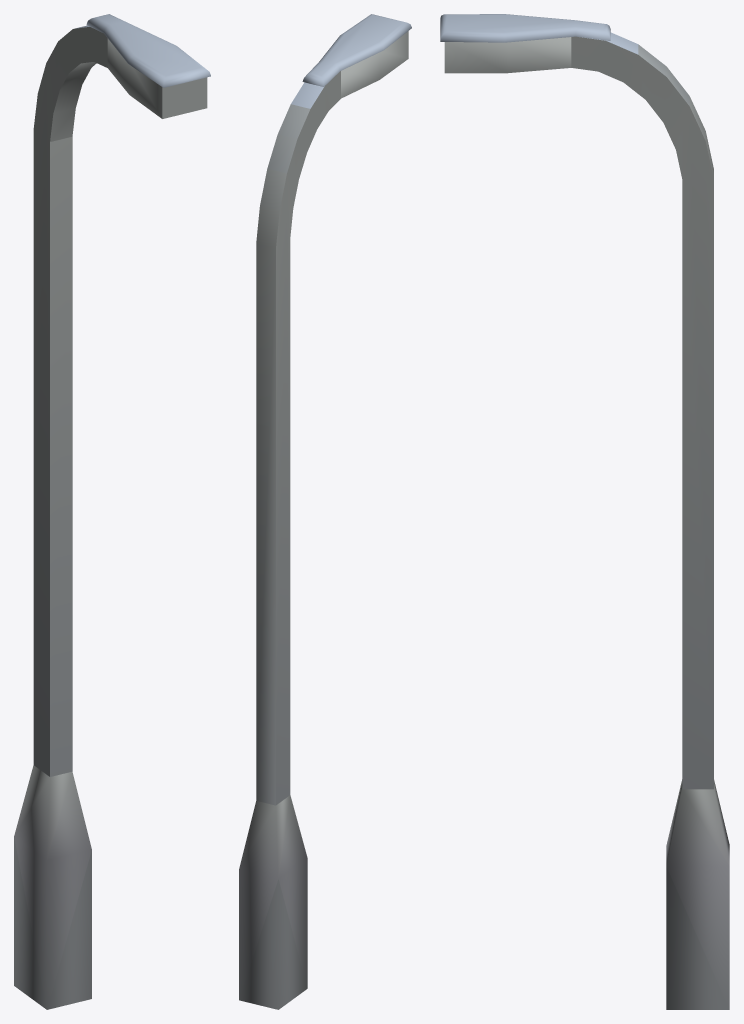
File: lamp_highway.glb
3 renders of one model, left to right at view 1: azimuth 30°, elevation 25°; view 2: azimuth 150°, elevation 25°; view 3: azimuth 270°, elevation 25°, orthographic. The views are drawn at different scales.
Parts seen in each view (by area): view 1: Prop; view 2: Prop; view 3: Prop.
Boxes of the visible parts, x1,y1,x2,y2 form: Prop: (14, 14, 210, 1009); Prop: (239, 14, 411, 1009); Prop: (440, 14, 729, 1009).
Bounding box in the file's own units: 0.4771 × 9.07 × 2.44.
